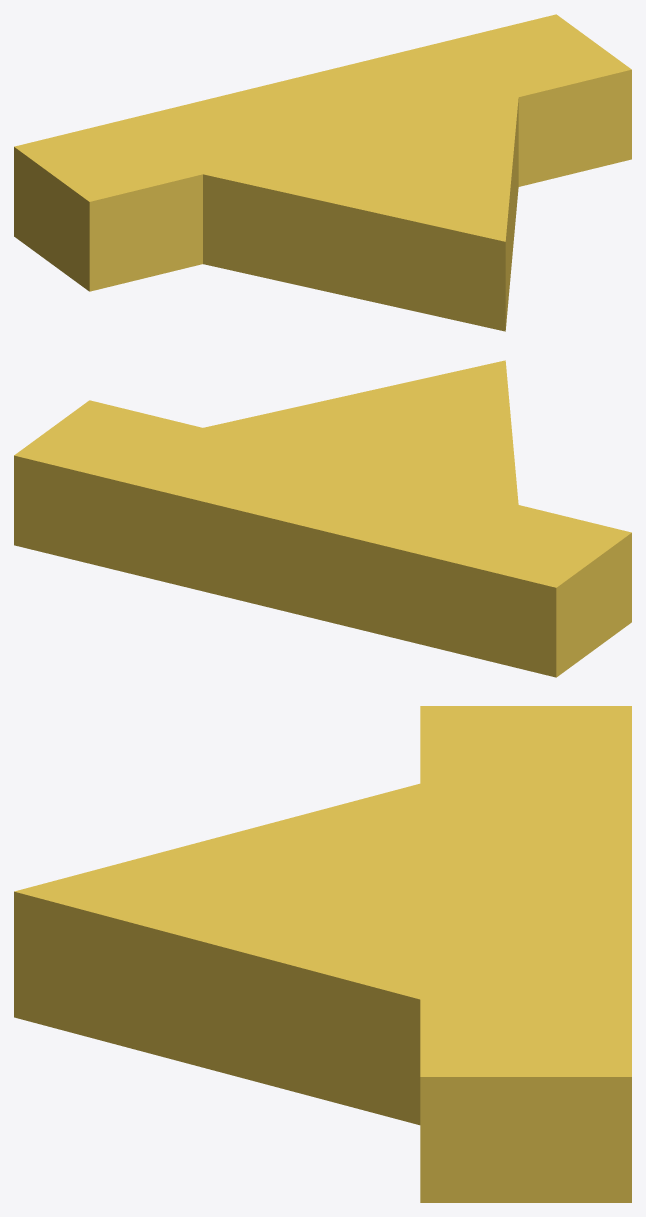
Rendered from SM_Shape_Square_Tiangle__01.fbx.
3 views of the same model, one above another, from view 1: azimuth 30°, elevation 25°; view 2: azimuth 150°, elevation 25°; view 3: azimuth 270°, elevation 25° (orthographic). The views are drawn at different scales.
Parts seen in each view (by area): view 1: SM_Shape_Square_Tiangle__01; view 2: SM_Shape_Square_Tiangle__01; view 3: SM_Shape_Square_Tiangle__01.
Boxes of the visible parts, box(x1,y1,x2,y2) form: SM_Shape_Square_Tiangle__01: box(14, 14, 631, 331); SM_Shape_Square_Tiangle__01: box(14, 360, 631, 677); SM_Shape_Square_Tiangle__01: box(14, 706, 631, 1202).
Size of the model in its own units: 8.85 by 1.4 by 6.23.
